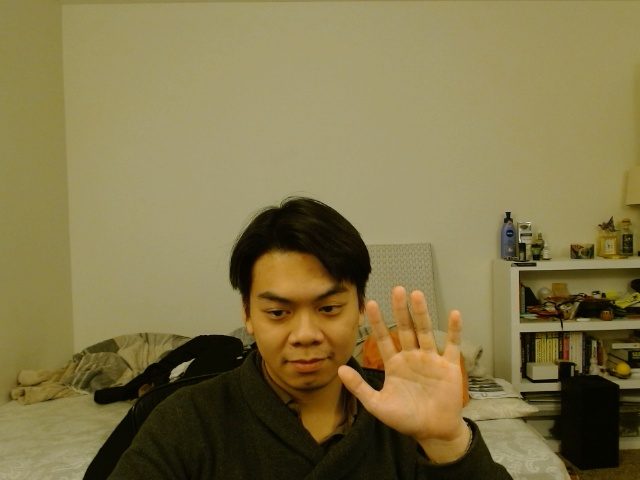Hello: (337, 284, 468, 440)
